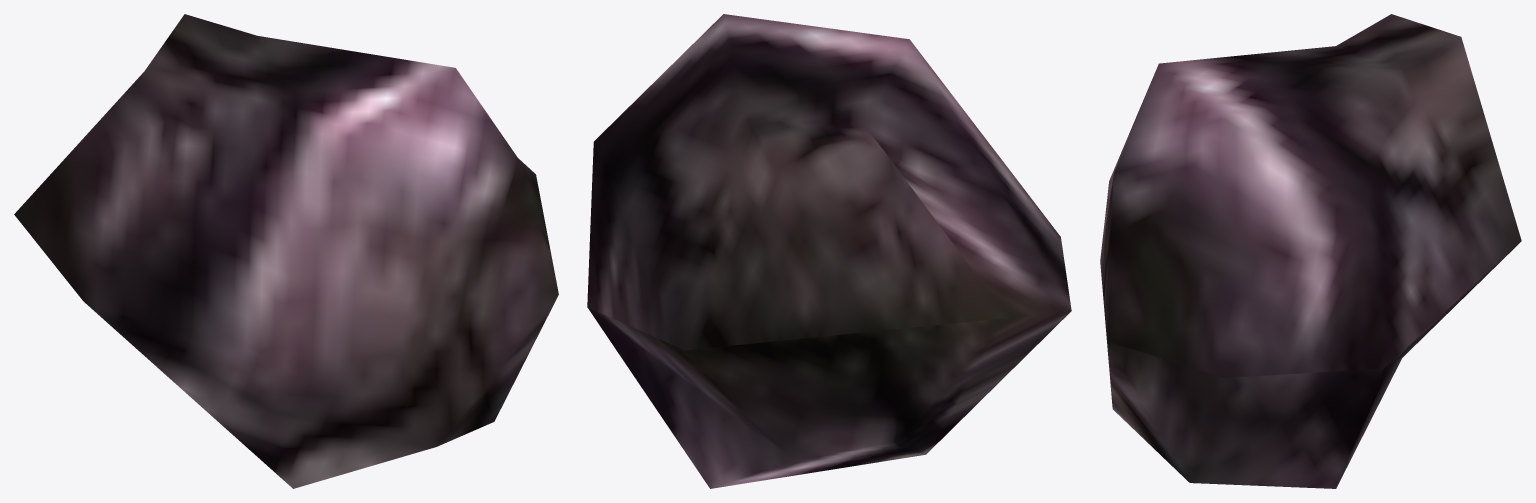
File: condra_7_arm_right.glb
3 renders of one model, left to right at view 1: azimuth 30°, elevation 25°; view 2: azimuth 150°, elevation 25°; view 3: azimuth 270°, elevation 25°, orthographic. The views are drawn at different scales.
Parts seen in each view (by area): view 1: model_condra_7_arm_right; view 2: model_condra_7_arm_right; view 3: model_condra_7_arm_right.
Boxes of the visible parts, x1,y1,x2,y2 form: model_condra_7_arm_right: [14, 14, 558, 488]; model_condra_7_arm_right: [587, 14, 1071, 488]; model_condra_7_arm_right: [1100, 14, 1521, 488].
Bounding box in the file's own units: 0.3568 × 0.3154 × 0.3036.
Materials: 1 (1 with a texture image).
